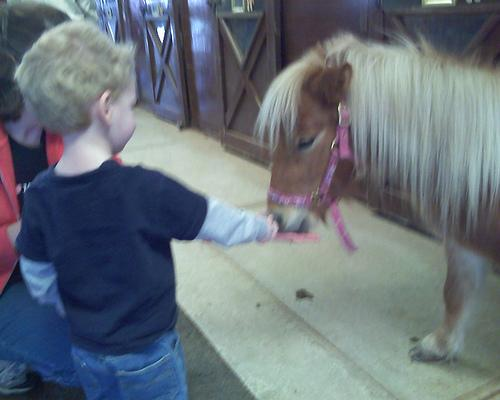person: (13, 22, 282, 400)
